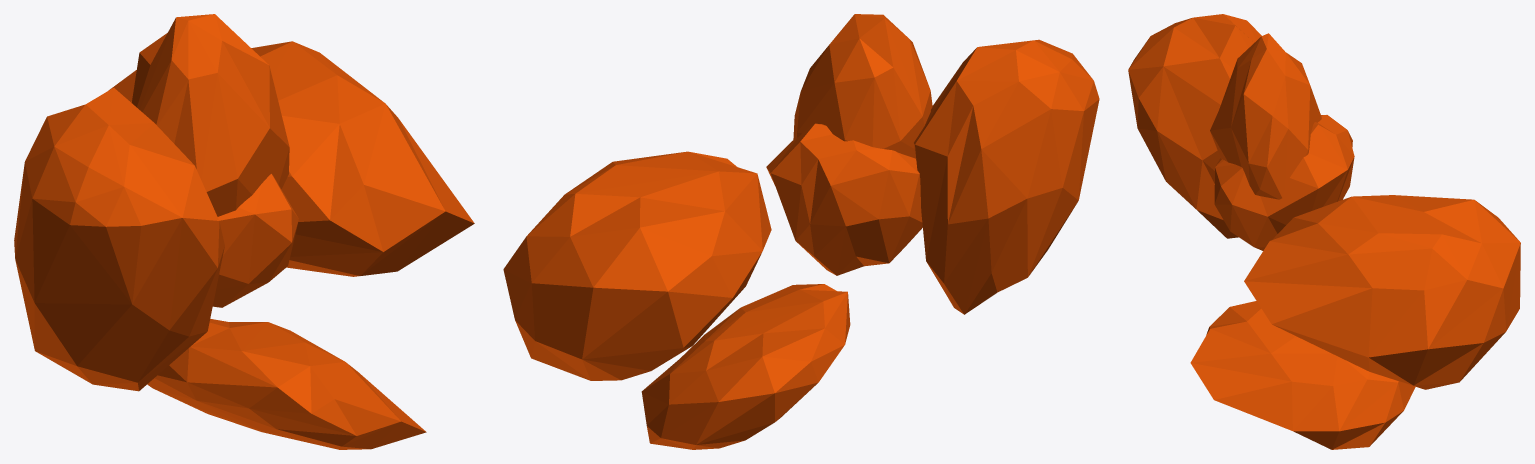
The model's file is tree-autumn-leaves-6-050.glb.
3 renders of one model, left to right at view 1: azimuth 30°, elevation 25°; view 2: azimuth 150°, elevation 25°; view 3: azimuth 270°, elevation 25°, orthographic. The views are drawn at different scales.
Parts seen in each view (by area): view 1: TREE 6.003_401; view 2: TREE 6.003_401; view 3: TREE 6.003_401.
Boxes of the visible parts, <box> form: TREE 6.003_401: <box>14,14,474,449</box>; TREE 6.003_401: <box>503,14,1099,449</box>; TREE 6.003_401: <box>1128,14,1520,449</box>.
Size of the model in its own units: 0.9337 by 0.8573 by 0.8774.
